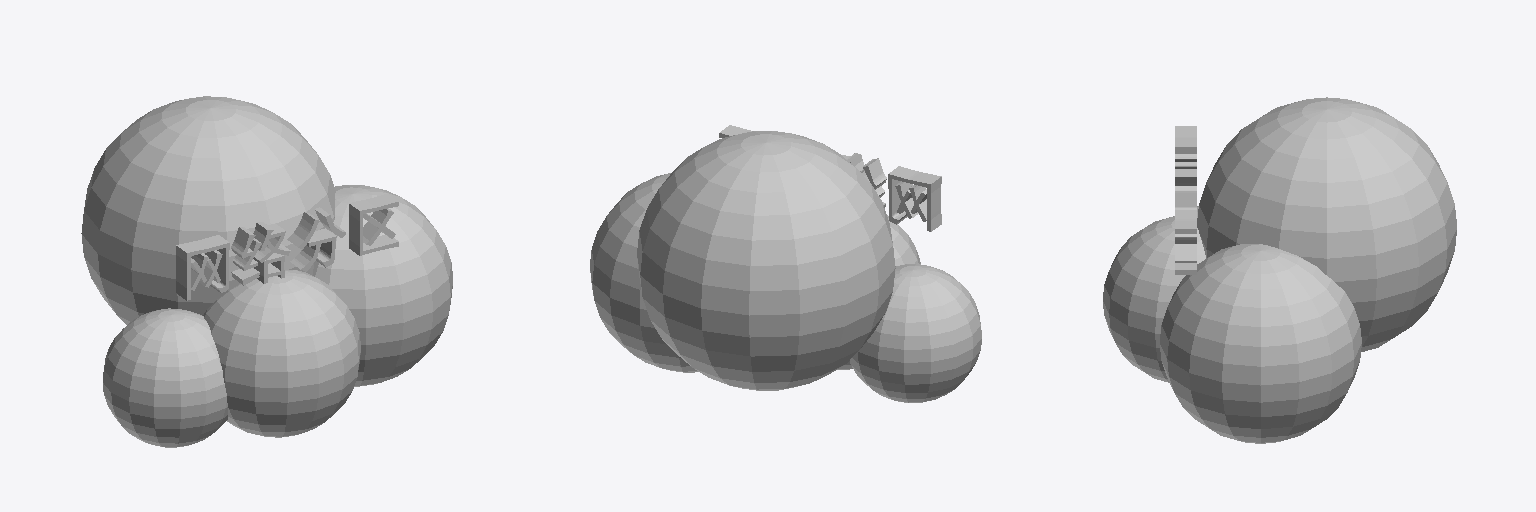
Rendered from Netpartition.obj.
3 views of the same model, side by side, from view 1: azimuth 30°, elevation 25°; view 2: azimuth 150°, elevation 25°; view 3: azimuth 270°, elevation 25° (orthographic).
Parts seen in each view (by area): view 1: Netpartition; view 2: Netpartition; view 3: Netpartition.
Part boxes in pixels (bbox=[...]): Netpartition: bbox=[81, 96, 452, 447]; Netpartition: bbox=[590, 125, 981, 402]; Netpartition: bbox=[1103, 97, 1456, 443].
Size of the model in its own units: 1.11 by 0.82 by 0.9704.